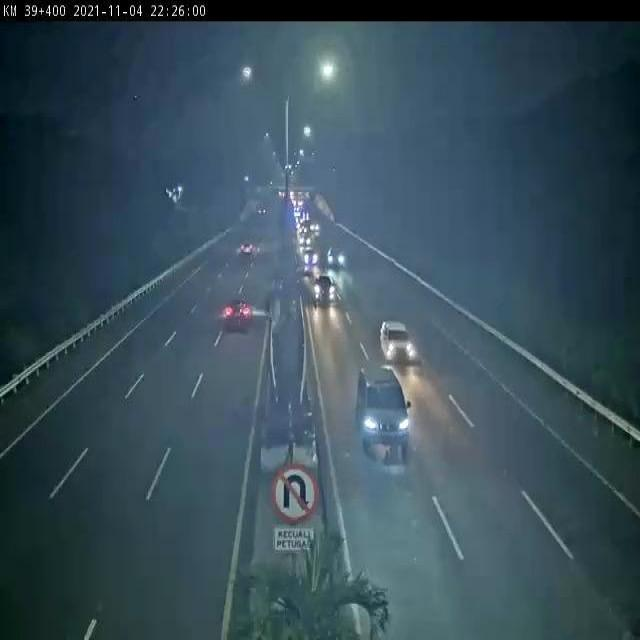car: (357, 368, 410, 455), (378, 317, 413, 364), (226, 299, 253, 329), (313, 278, 338, 306), (328, 247, 347, 268), (305, 248, 317, 263)
